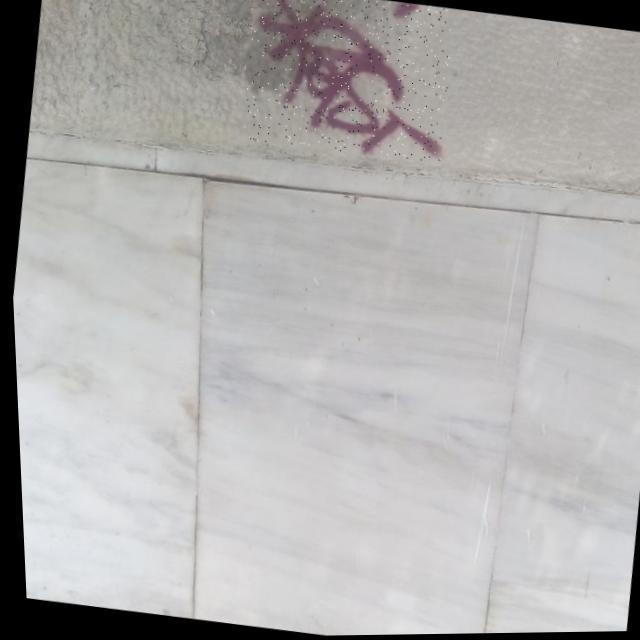-: (233, 0, 461, 167)
